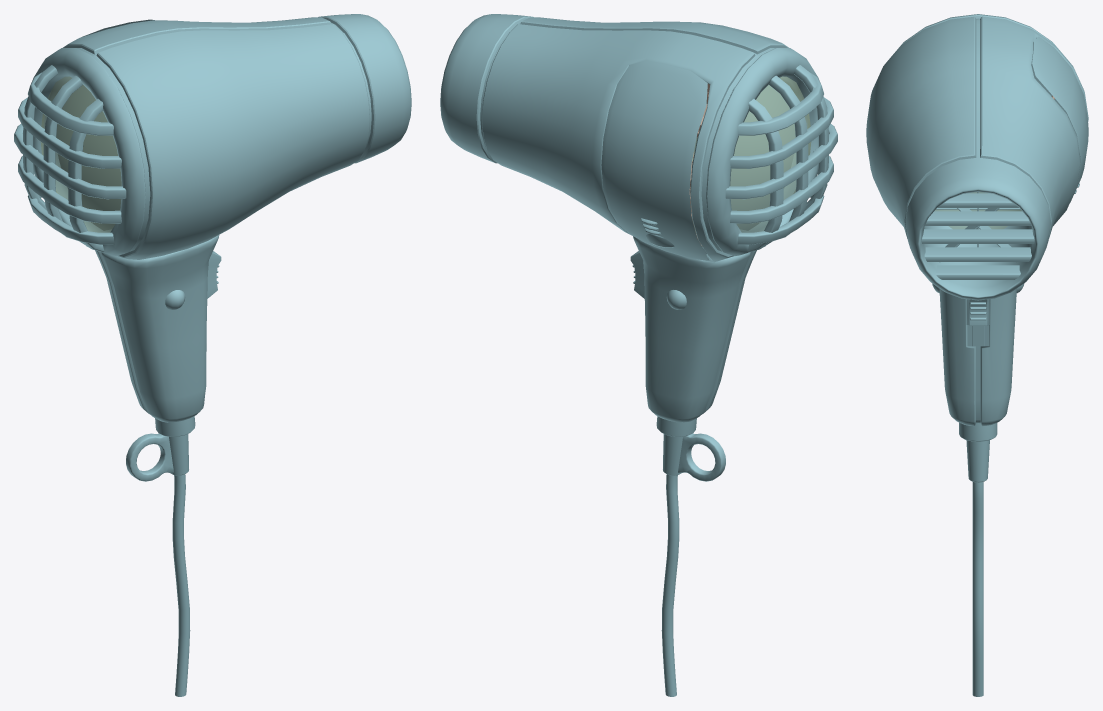
The model's file is HairDryer.fbx.
The picture shows the model from 3 angles, left to right: view 1: azimuth 30°, elevation 25°; view 2: azimuth 150°, elevation 25°; view 3: azimuth 270°, elevation 25°; orthographic projection. The views are drawn at different scales.
Parts seen in each view (by area): view 1: FrontBase, BackWire; view 2: FrontBase, BackShellModel, BackWire; view 3: FrontBase, BackShellModel, FrontBaseButton.
Part boxes in pixels (x1,y1,x2,y2): FrontBase: (14,14,411,696); BackWire: (40,76,121,232); FrontBase: (440,14,837,696); BackShellModel: (601,60,707,260); BackWire: (730,76,811,232); FrontBase: (866,14,1088,696); BackShellModel: (1032,36,1088,202); FrontBaseButton: (966,299,989,346).
Size of the model in its own units: 28.38 by 53.48 by 16.8.
